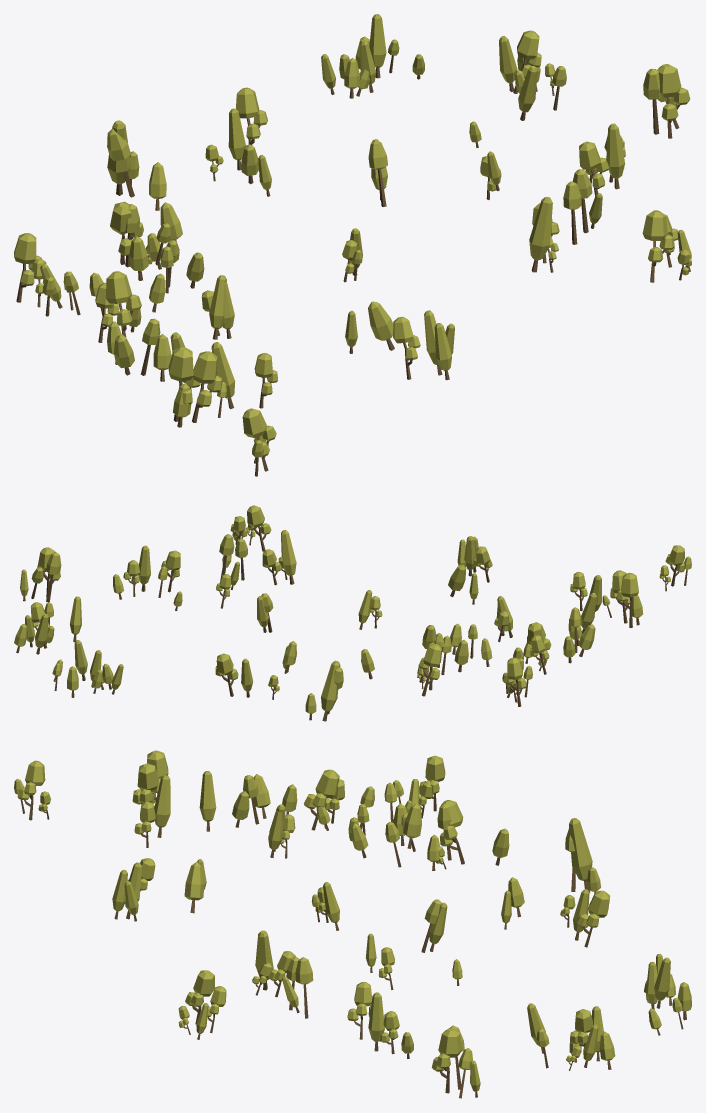
The model's file is Tree.glb.
The picture shows the model from 3 angles, top to bottom: view 1: azimuth 30°, elevation 25°; view 2: azimuth 150°, elevation 25°; view 3: azimuth 270°, elevation 25°; orthographic projection. The views are drawn at different scales.
Visible parts, largest first — view 1: tree_thin.046, tree_thin.051, tree_thin.040, tree_thin.047, tree_tall.031, tree_thin.044, tree_thin.049, tree_thin.038, tree_thin.031, tree_thin.033, tree_thin.053, tree_tall.042 (+8 smaller); view 2: tree_thin.033, tree_tall.047, tree_thin.044, tree_thin.038, tree_thin.047, tree_tall.031, tree_thin.049, tree_thin.031, tree_thin.053, tree_tall.042, tree_thin.040, tree_tall.040 (+11 smaller); view 3: tree_tall.047, tree_thin.051, tree_thin.046, tree_thin.049, tree_thin.040, tree_thin.047, tree_thin.031, tree_tall.028, tree_thin.033, tree_thin.053, tree_tall.051, tree_small.038 (+6 smaller).
Part boxes in pixels (x1,y1,x2,y2): tree_thin.046: (106,271,141,337); tree_thin.051: (657,64,690,138); tree_thin.040: (192,351,221,422); tree_thin.047: (642,210,674,282); tree_tall.031: (529,196,552,272); tree_thin.044: (168,347,200,421); tree_thin.049: (236,87,267,145); tree_thin.038: (14,233,41,302); tree_thin.031: (242,408,276,471); tree_thin.033: (110,201,143,264); tree_thin.053: (579,141,608,195); tree_tall.042: (606,123,625,189); tree_thin.033: (418,644,442,696); tree_tall.047: (321,660,340,721); tree_thin.044: (617,572,640,627); tree_thin.038: (504,657,526,706); tree_thin.047: (247,505,271,551); tree_tall.031: (281,530,296,584); tree_thin.049: (215,653,238,696); tree_thin.031: (665,545,684,586); tree_thin.053: (161,550,180,592); tree_tall.042: (138,545,150,591); tree_thin.040: (610,570,630,623); tree_tall.040: (70,596,81,642); tree_tall.047: (569,818,592,892); tree_thin.051: (431,1028,462,1093); tree_thin.046: (304,769,339,830); tree_thin.049: (577,890,610,947); tree_thin.040: (132,763,158,804); tree_thin.047: (185,970,214,1024); tree_thin.031: (17,760,45,820); tree_tall.028: (154,775,170,837); tree_thin.033: (439,800,464,864); tree_thin.053: (347,982,372,1039); tree_tall.051: (199,771,216,831); tree_small.038: (184,862,204,913).
Bounding box in the file's own units: 57.29 × 6.59 × 55.77.
